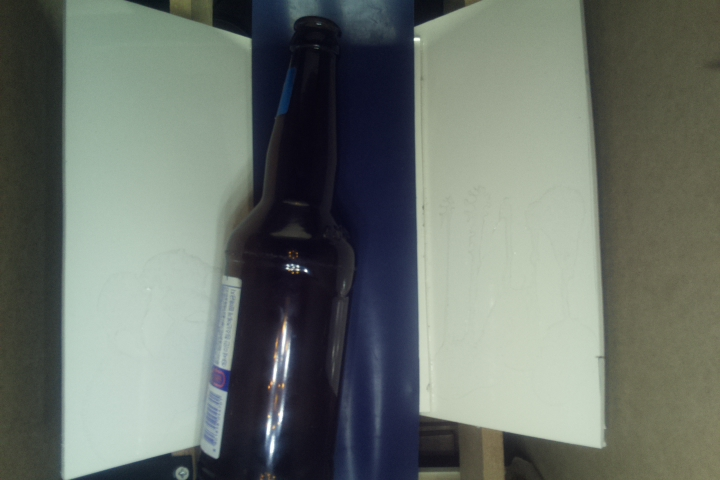makju: (192, 16, 359, 480)
